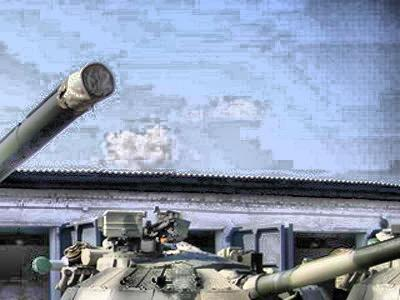tanks: (61, 214, 400, 300), (1, 65, 112, 182)
